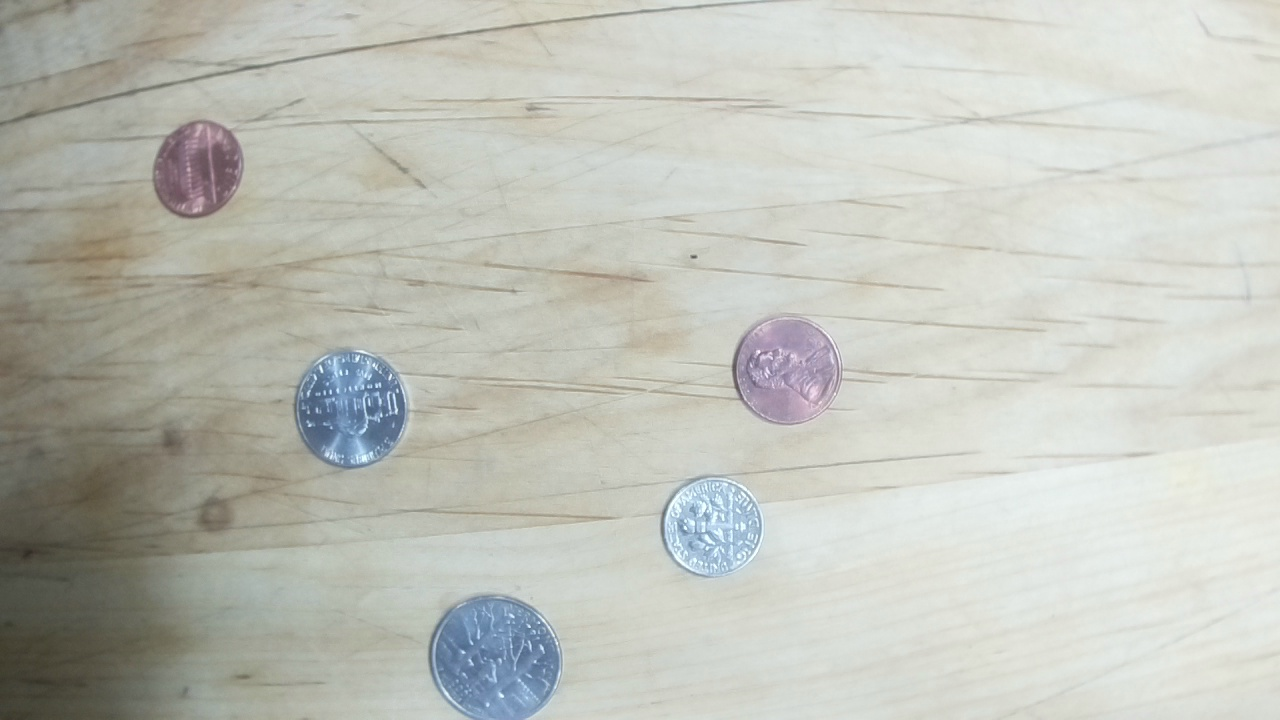dime: (657, 475, 764, 577)
nickel: (292, 343, 410, 471)
penny: (732, 315, 845, 425), (149, 119, 246, 220)
quarter: (425, 592, 566, 720)
